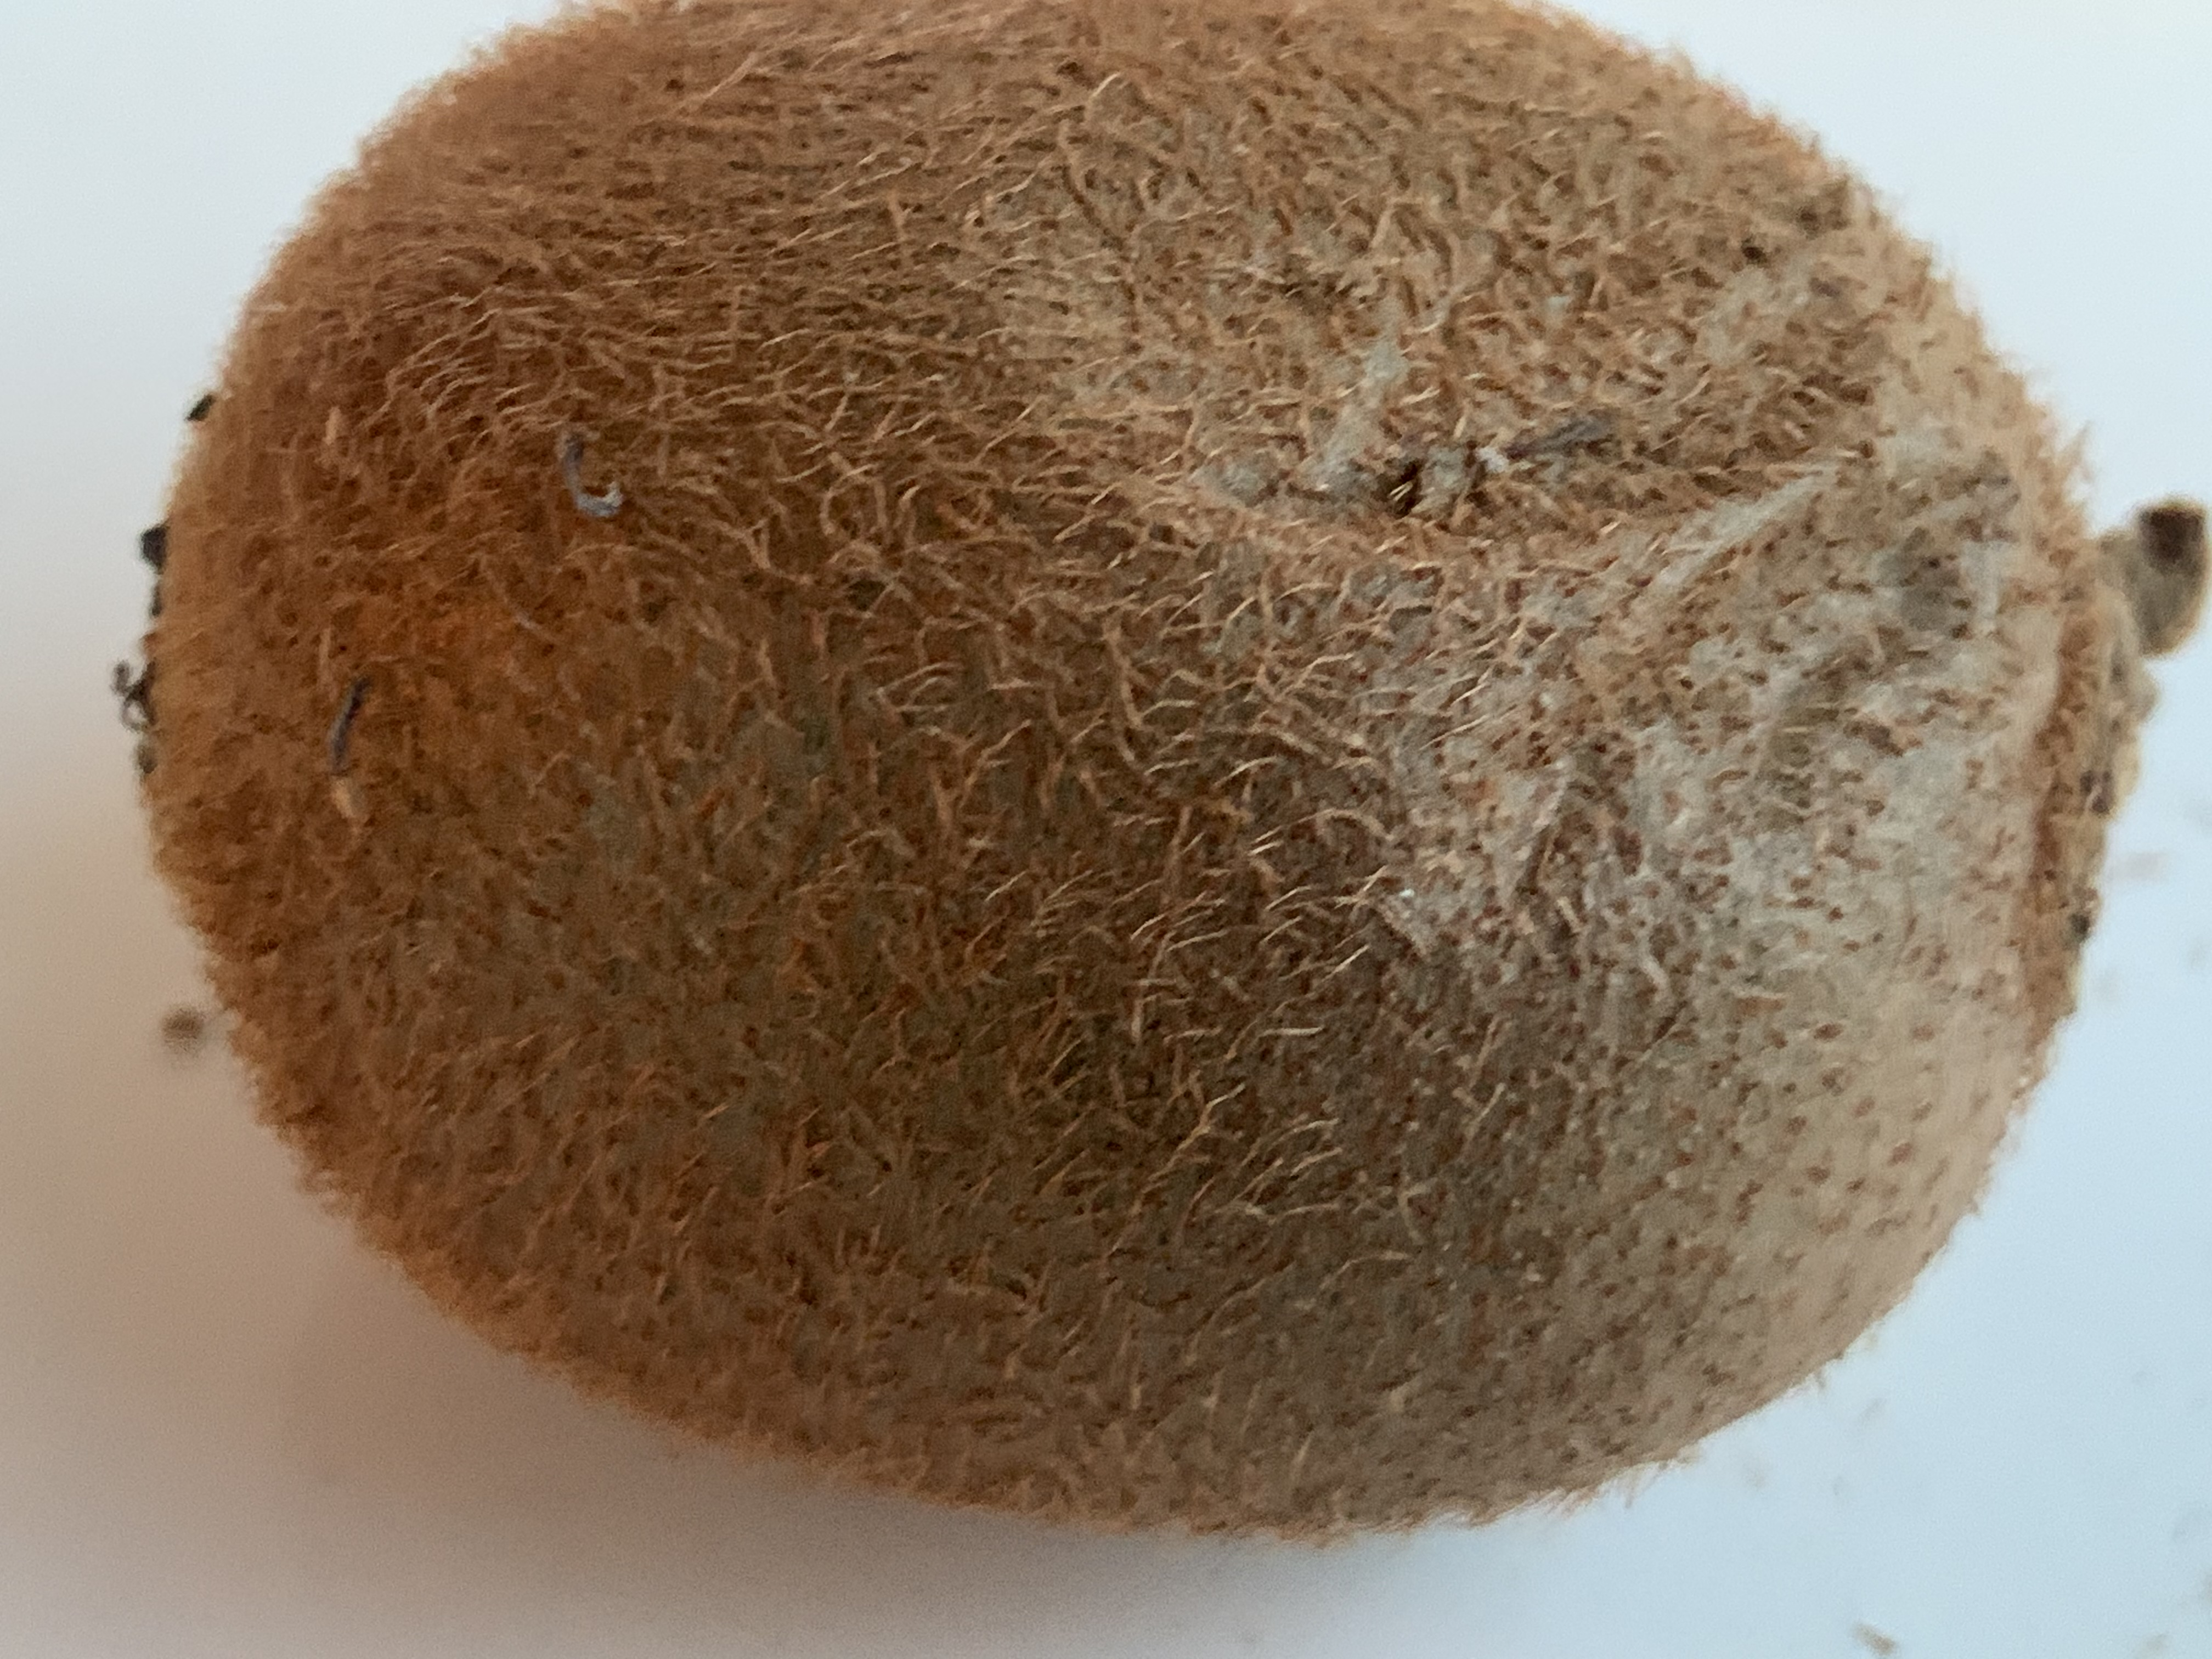kiwi: (124, 0, 2207, 1549)
